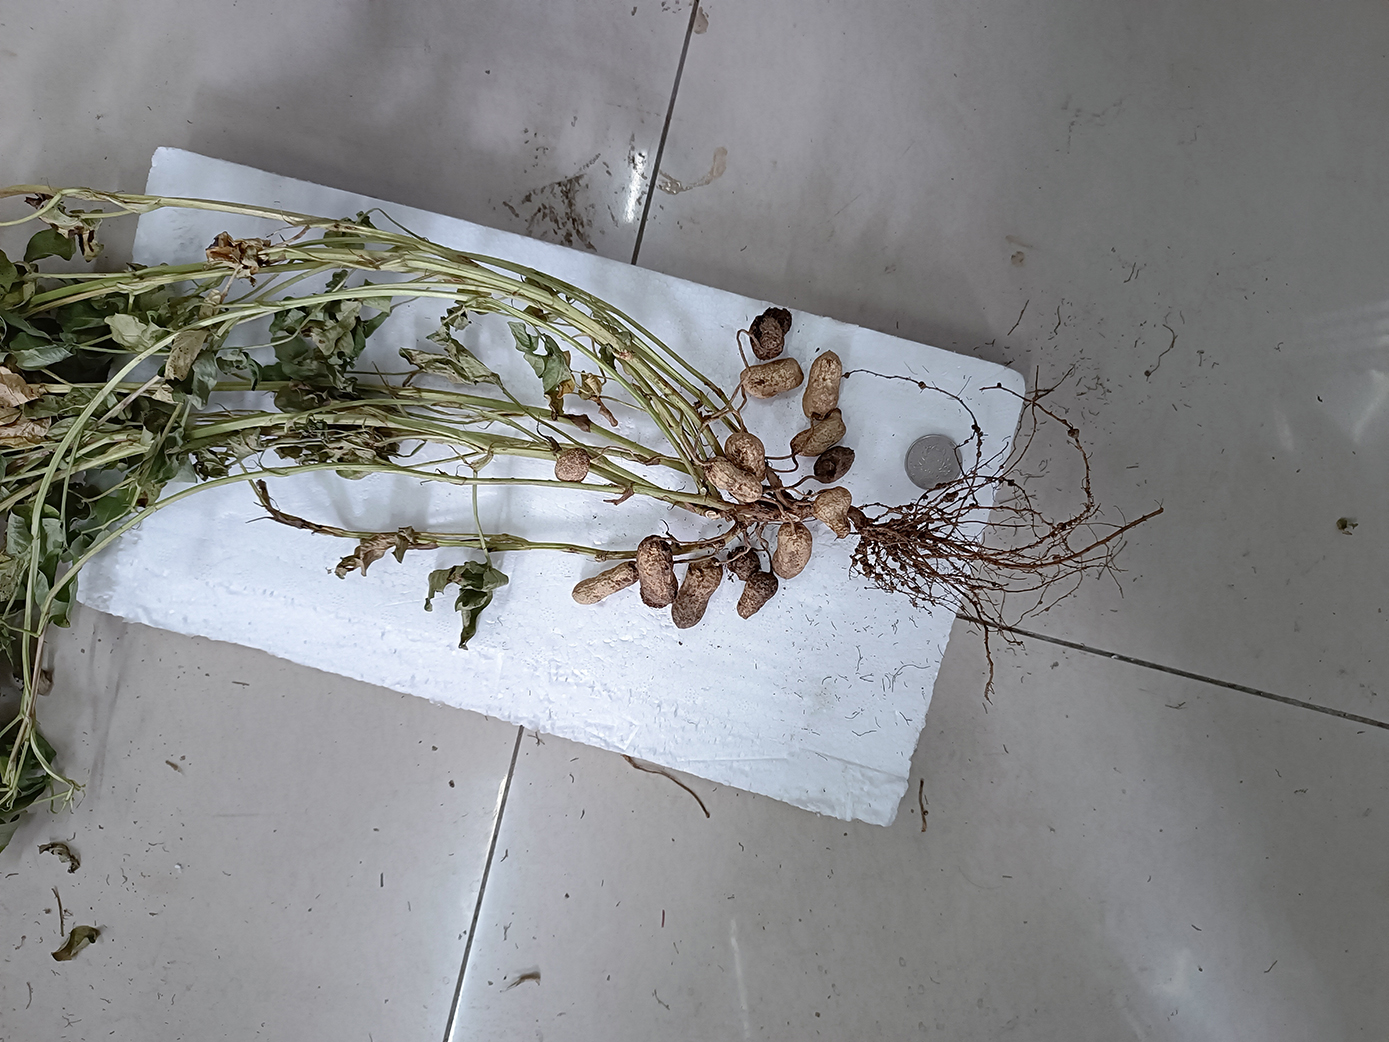h: (737, 358, 806, 401), (708, 458, 763, 507), (802, 350, 840, 418), (789, 409, 844, 455), (571, 565, 638, 602), (771, 520, 810, 582), (721, 428, 764, 476), (813, 488, 850, 539), (554, 447, 590, 483)
l: (671, 558, 722, 628), (638, 536, 676, 609), (750, 306, 792, 357), (737, 571, 776, 618), (810, 445, 853, 483), (727, 545, 757, 580)
